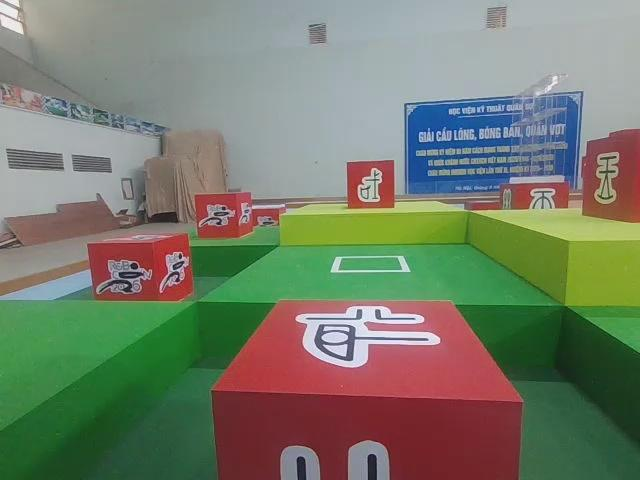R1: (88, 232, 194, 301), (191, 190, 255, 244)
R2 Real: (212, 297, 524, 480), (583, 137, 640, 223), (347, 160, 395, 209)
